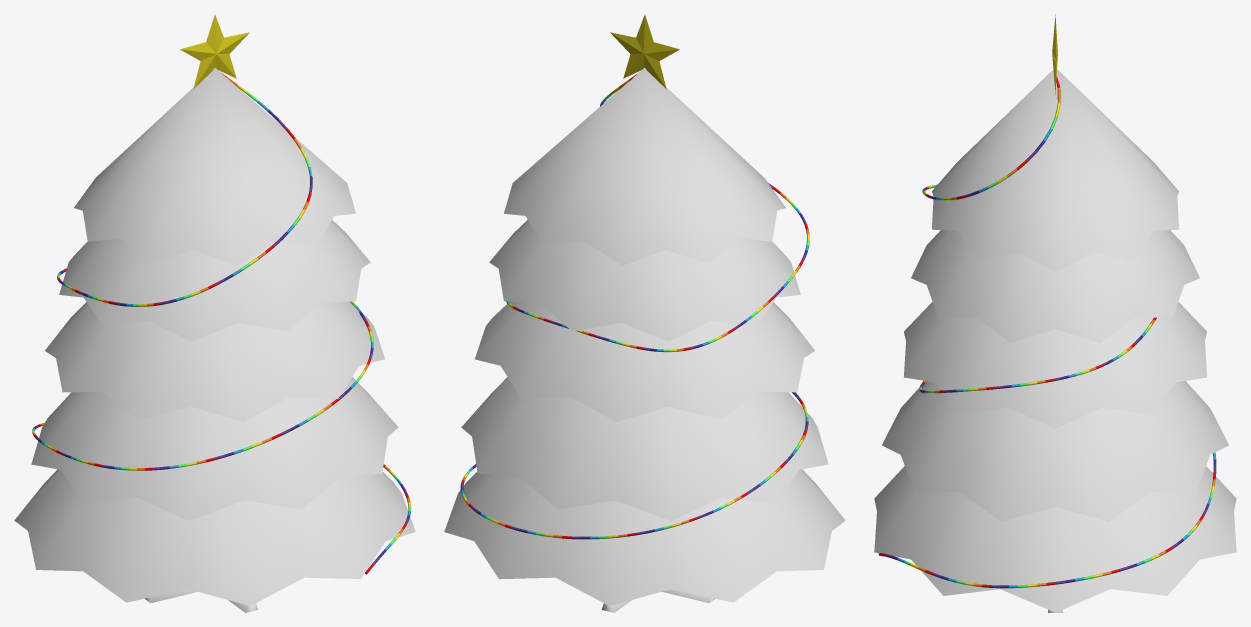
File: Christmas_tree.fbx
3 views of the same model, side by side, from view 1: azimuth 30°, elevation 25°; view 2: azimuth 150°, elevation 25°; view 3: azimuth 270°, elevation 25° (orthographic).
Parts seen in each view (by area): view 1: Christmas_tree; view 2: Christmas_tree; view 3: Christmas_tree.
Boxes of the visible parts, bbox=[...] form: Christmas_tree: bbox=[14, 14, 415, 612]; Christmas_tree: bbox=[444, 14, 845, 612]; Christmas_tree: bbox=[874, 14, 1236, 612].
Size of the model in its own units: 288 by 438 by 253.
